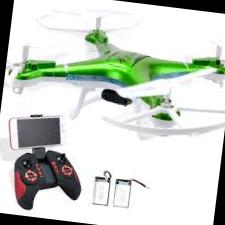drone: (3, 0, 225, 150)
